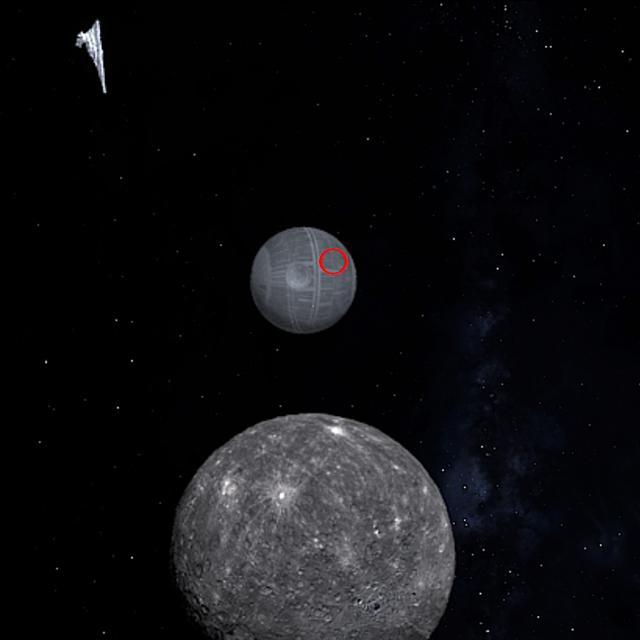Death-star: (251, 226, 356, 332)
